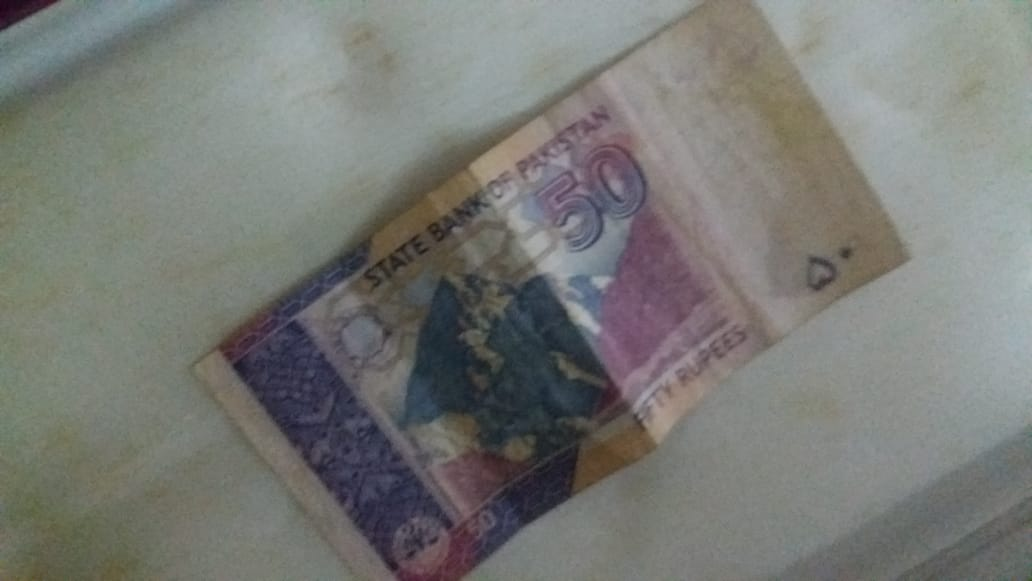50 rupee: (196, 4, 915, 581)
